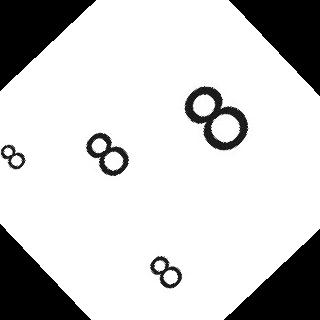eight: (182, 85, 248, 151), (84, 131, 131, 178), (148, 254, 185, 291), (1, 143, 26, 169)
